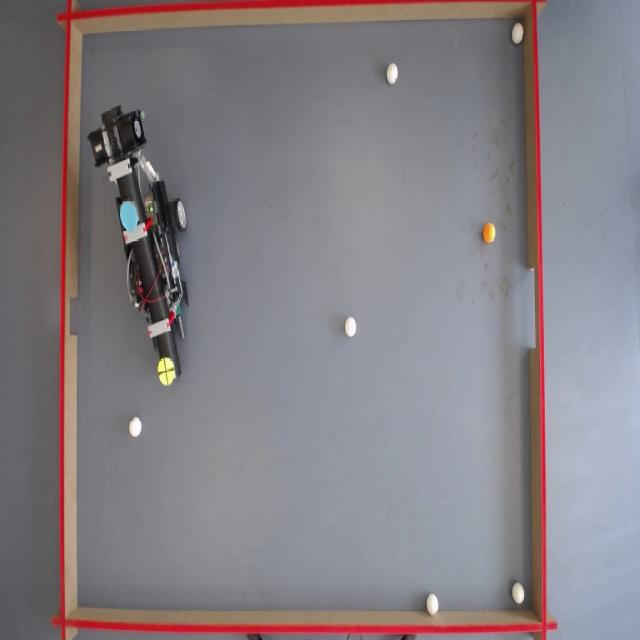orange: (482, 221, 496, 241)
robot: (85, 105, 197, 384)
robot-front: (158, 355, 176, 384)
robot-rear: (118, 200, 138, 232)
white: (513, 584, 527, 606), (512, 24, 526, 46), (130, 417, 144, 439), (426, 593, 440, 615), (345, 316, 358, 338), (386, 64, 399, 85)
